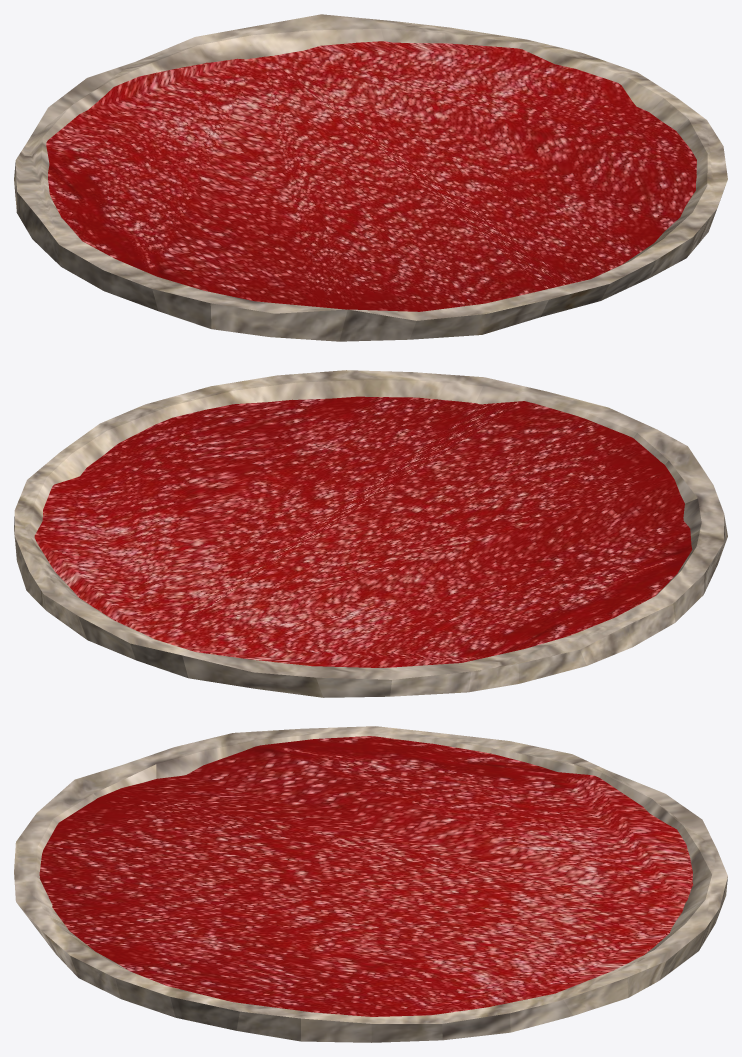
Rendered from pizzabodem_saus.obj.
3 renders of one model, top to bottom at view 1: azimuth 30°, elevation 25°; view 2: azimuth 150°, elevation 25°; view 3: azimuth 270°, elevation 25°, orthographic.
Parts seen in each view (by area): view 1: Cylinder.002_Cylinder.005, Cylinder.001; view 2: Cylinder.002_Cylinder.005, Cylinder.001; view 3: Cylinder.002_Cylinder.005, Cylinder.001.
Boxes of the visible parts, bbox=[...] form: Cylinder.002_Cylinder.005: bbox=[46, 41, 696, 311]; Cylinder.001: bbox=[14, 14, 727, 341]; Cylinder.002_Cylinder.005: bbox=[34, 396, 692, 667]; Cylinder.001: bbox=[14, 370, 727, 697]; Cylinder.002_Cylinder.005: bbox=[39, 736, 693, 1016]; Cylinder.001: bbox=[14, 726, 727, 1042].
Bounding box in the file's own units: 1.94 × 0.101 × 1.97.
Materials: 2 (2 with a texture image).
